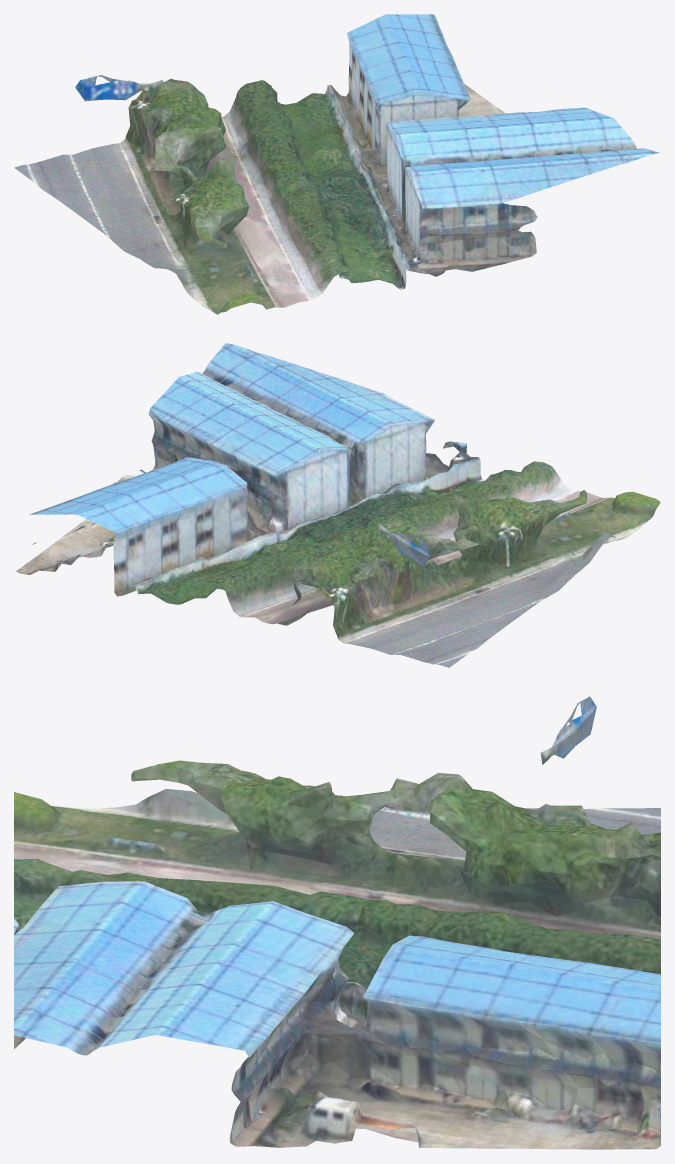
File: Tile_+000_+004_L20_000000t1.glb
3 renders of one model, top to bottom at view 1: azimuth 30°, elevation 25°; view 2: azimuth 150°, elevation 25°; view 3: azimuth 270°, elevation 25°, orthographic. The views are drawn at different scales.
Visible parts, largest first — view 1: rtc; view 2: rtc; view 3: rtc.
Boxes of the visible parts, box(x1,y1,x2,y2) form: rtc: box(14, 14, 660, 314); rtc: box(15, 343, 660, 667); rtc: box(14, 696, 660, 1149).
Bounding box in the file's own units: 30.48 × 7.44 × 25.69.
1 material, 1 textured.
